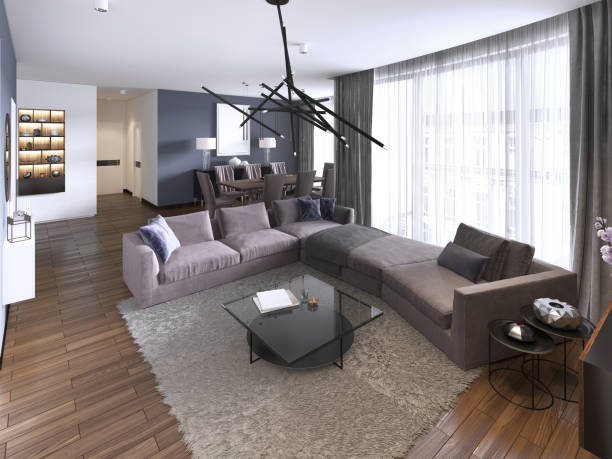dining table set: (193, 161, 336, 201)
side table: (486, 297, 592, 414)
sofa: (120, 194, 579, 373), (194, 136, 215, 169), (257, 134, 278, 162)
table: (220, 271, 384, 371)
wall art: (214, 100, 252, 157)
